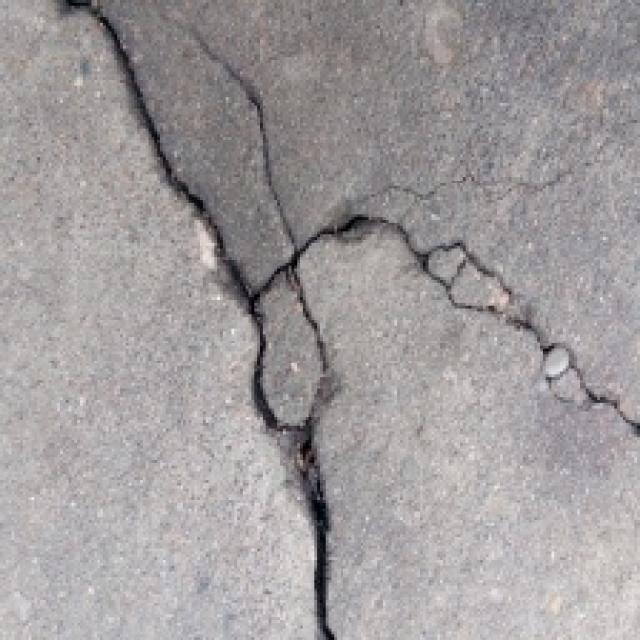SurfaceCrack: (176, 176, 640, 464)
